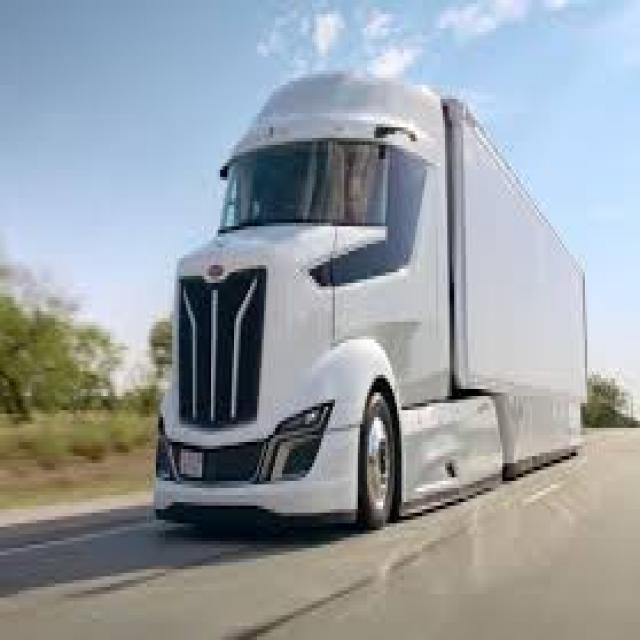truck: (136, 43, 613, 564)
